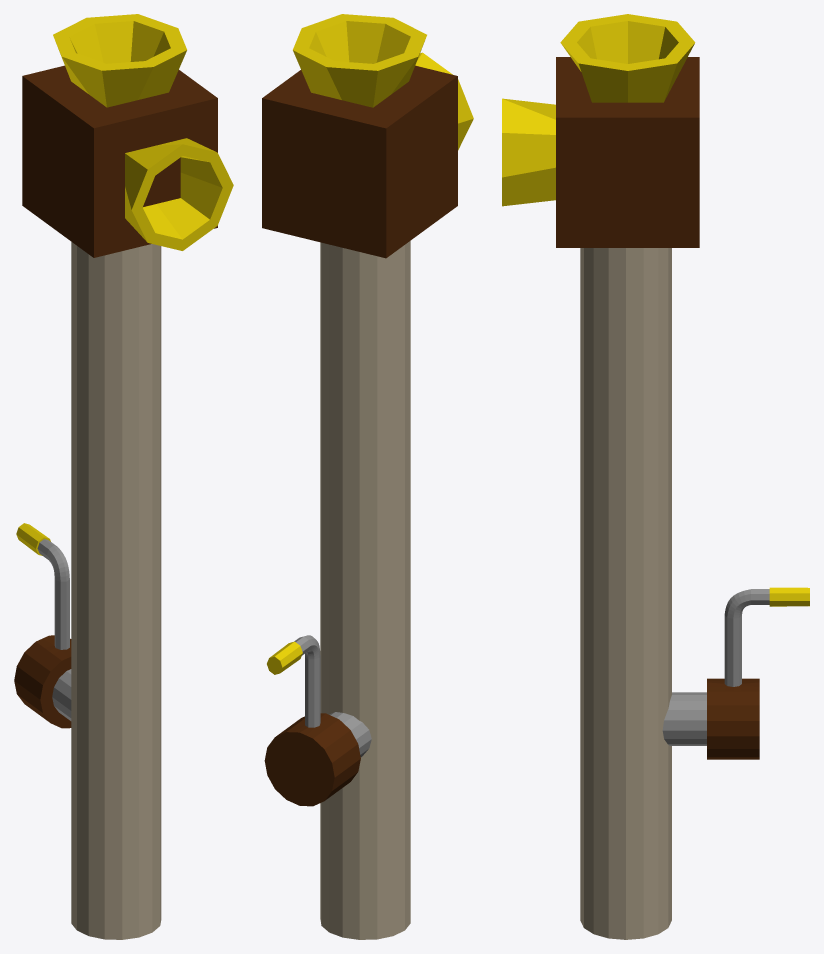
File: Light_Reflector.fbx
The picture shows the model from 3 angles, left to right: view 1: azimuth 30°, elevation 25°; view 2: azimuth 150°, elevation 25°; view 3: azimuth 270°, elevation 25°; orthographic projection.
Parts seen in each view (by area): view 1: Light_Reflector; view 2: Light_Reflector; view 3: Light_Reflector.
Part boxes in pixels (x1=…): Light_Reflector: x1=14, y1=14, x2=233, y2=939; Light_Reflector: x1=262, y1=14, x2=473, y2=939; Light_Reflector: x1=502, y1=14, x2=809, y2=939.
Bounding box in the file's own units: 69.79 × 32.6 × 220.
